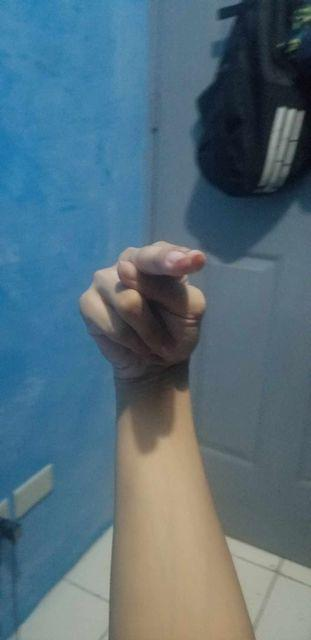n: (80, 241, 208, 377)
